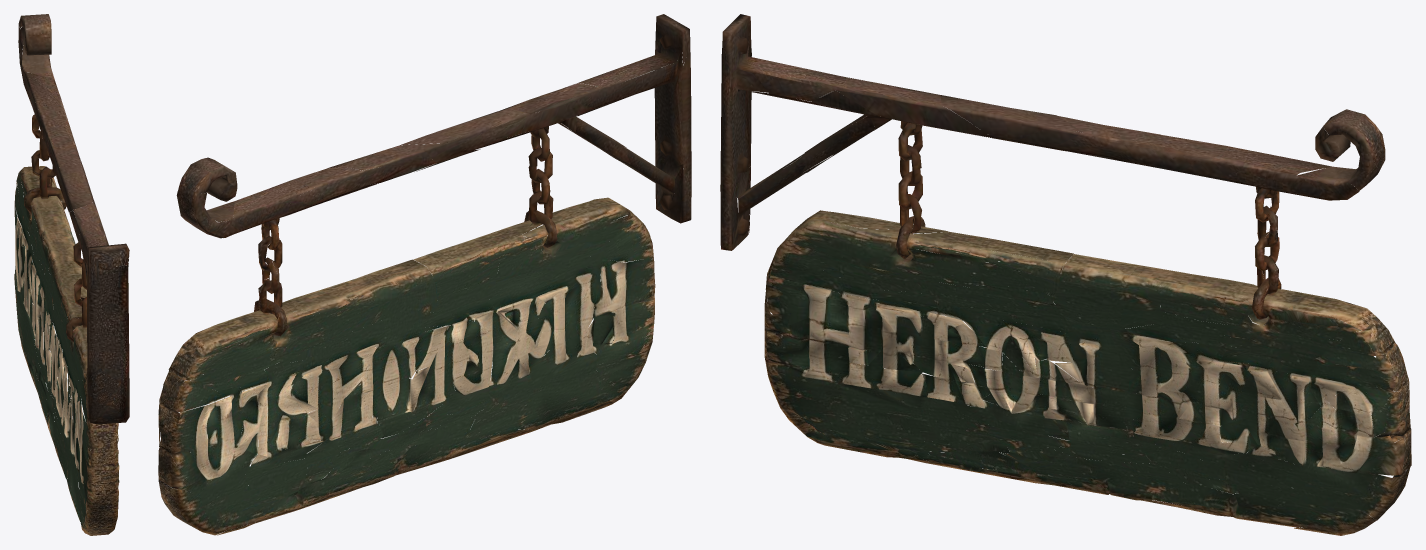
File: sign.glb
3 renders of one model, left to right at view 1: azimuth 30°, elevation 25°; view 2: azimuth 150°, elevation 25°; view 3: azimuth 270°, elevation 25°, orthographic. The views are drawn at different scales.
Visible parts, largest first — view 1: tripo_node_61047b6a-8b53-4ad6-84cc-39fe0fb32f25; view 2: tripo_node_61047b6a-8b53-4ad6-84cc-39fe0fb32f25; view 3: tripo_node_61047b6a-8b53-4ad6-84cc-39fe0fb32f25.
Part boxes in pixels (x1,y1,x2,y2): tripo_node_61047b6a-8b53-4ad6-84cc-39fe0fb32f25: (14,14,129,535); tripo_node_61047b6a-8b53-4ad6-84cc-39fe0fb32f25: (158,14,691,535); tripo_node_61047b6a-8b53-4ad6-84cc-39fe0fb32f25: (720,14,1411,535).
Size of the model in its own units: 0.6825 by 0.9934 by 1.5.
1 material, 1 textured.
